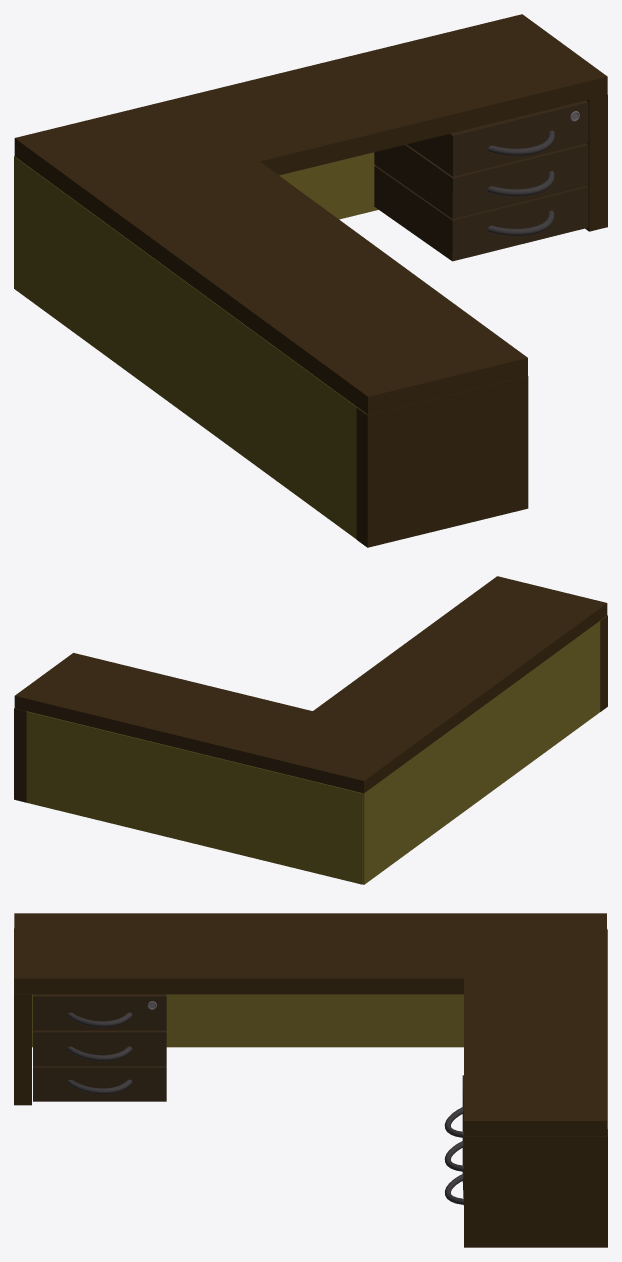
Rendered from BSL_LeadRoomDesk_Daniel.fbx.
3 renders of one model, top to bottom at view 1: azimuth 30°, elevation 25°; view 2: azimuth 150°, elevation 25°; view 3: azimuth 270°, elevation 25°, orthographic. The views are drawn at different scales.
Parts seen in each view (by area): view 1: Table Surface, Table Leg1, Table Leg1.003, Cabinet.005, Cabinet.004, Cabinet.003, Table Leg1.001, Table Leg1.002; view 2: Table Surface, Table Leg1.001, Table Leg1, Table Leg1.002, Table Leg1.003; view 3: Table Surface, Table Leg1, Table Leg1.002, Cabinet.001, Cabinet.002, Cabinet, Table Leg1.003, BezierCurve, BezierCurve.001, BezierCurve.002.
Part boxes in pixels (box(x1,y1,x2,y2)): Table Surface: box(14, 14, 607, 414); Table Leg1: box(14, 156, 366, 539); Table Leg1.003: box(356, 376, 528, 547); Cabinet.005: box(374, 165, 588, 261); Cabinet.004: box(374, 143, 588, 219); Cabinet.003: box(407, 100, 588, 176); Table Leg1.001: box(279, 152, 378, 219); Table Leg1.002: box(585, 95, 607, 231); Table Surface: box(14, 576, 607, 793); Table Leg1.001: box(26, 711, 362, 884); Table Leg1: box(362, 616, 606, 884); Table Leg1.002: box(14, 708, 26, 802); Table Leg1.003: box(600, 615, 607, 711); Table Surface: box(14, 913, 606, 1136); Table Leg1: box(32, 929, 607, 1047); Table Leg1.002: box(464, 1129, 607, 1247); Cabinet.001: box(33, 1030, 166, 1066); Cabinet.002: box(33, 994, 166, 1030); Cabinet: box(33, 1066, 166, 1101); Table Leg1.003: box(14, 928, 31, 1105); BezierCurve: box(67, 1046, 132, 1061); BezierCurve.001: box(67, 1012, 132, 1027); BezierCurve.002: box(67, 1079, 132, 1094).
Size of the model in its own units: 804 by 228 by 970.
